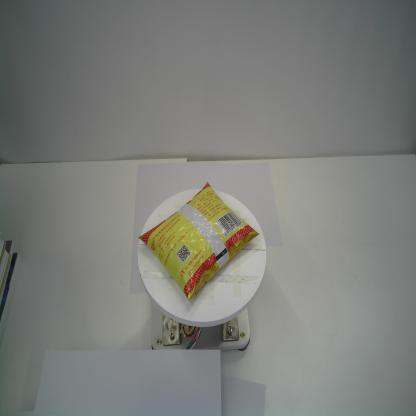Seasoner: (137, 179, 259, 302)
